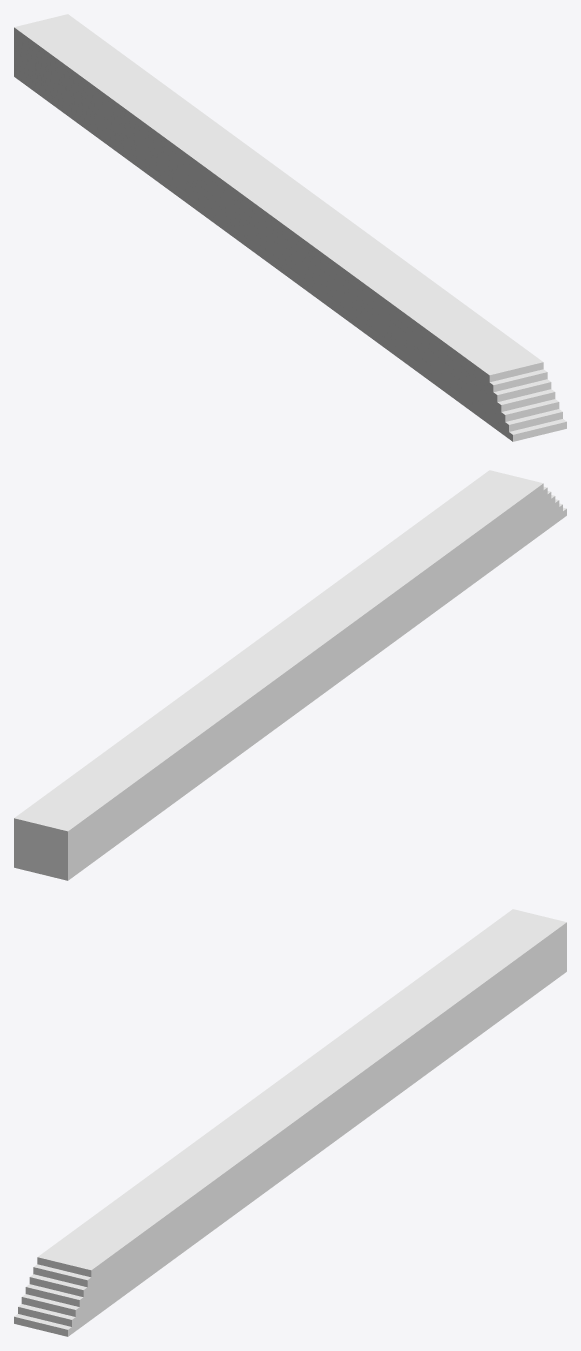
Rendered from avalanche.fbx.
3 views of the same model, one above another, from view 1: azimuth 30°, elevation 25°; view 2: azimuth 150°, elevation 25°; view 3: azimuth 330°, elevation 25° (orthographic).
Bounding box in the file's own units: 8 × 7 × 128.
Materials: 1 (1 with a texture image).
